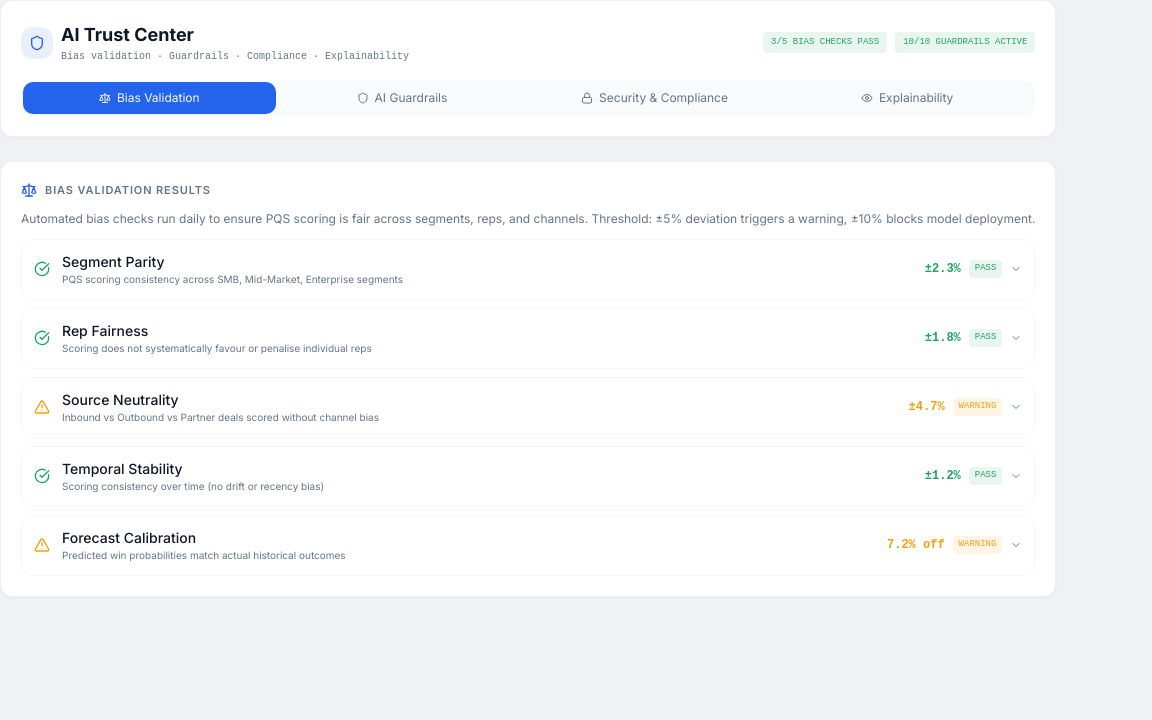
it: AITrustCenter › switches to Explainability tab
The image size is (1152, 720).
Click the button "Explainability": (907, 98) [781,82,1033,114]
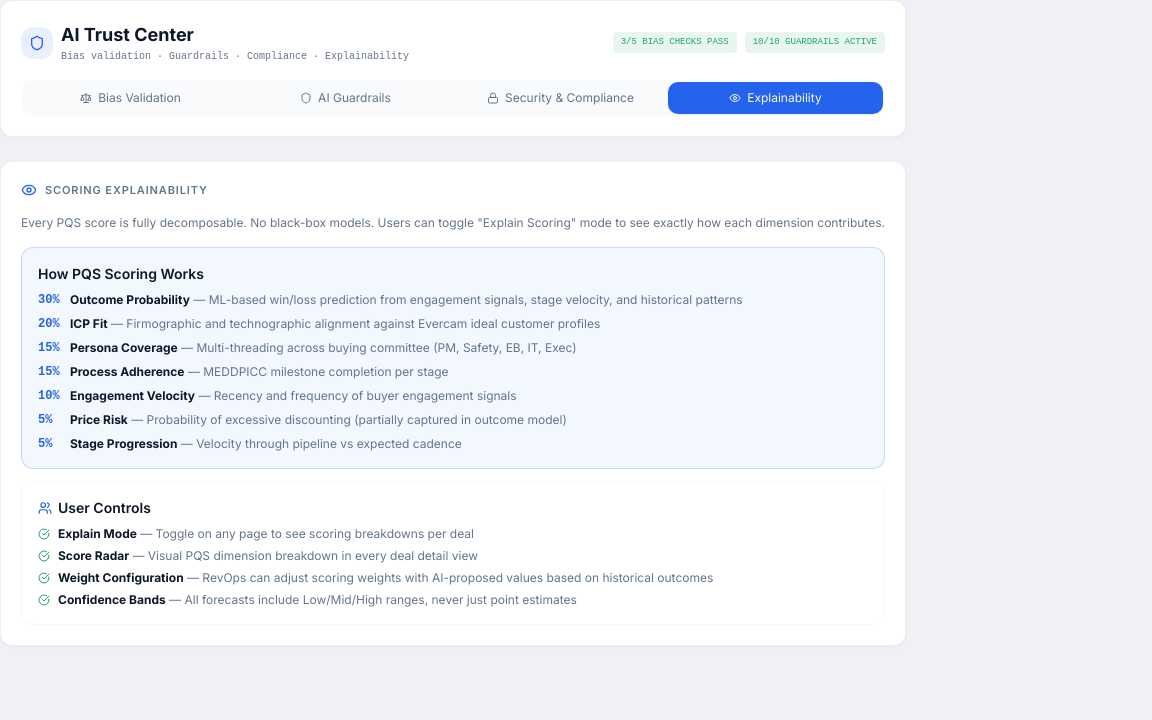
Result: the text "Scoring Explainability" is shown at [21,182,208,198]
